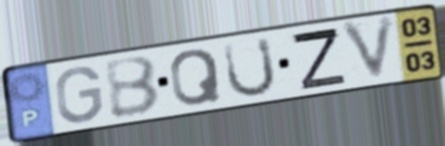B: (101, 54, 163, 122)
G: (54, 64, 105, 126)
Q: (168, 47, 225, 109)
U: (221, 34, 279, 101)
V: (337, 12, 400, 86)
Z: (288, 26, 350, 92)
